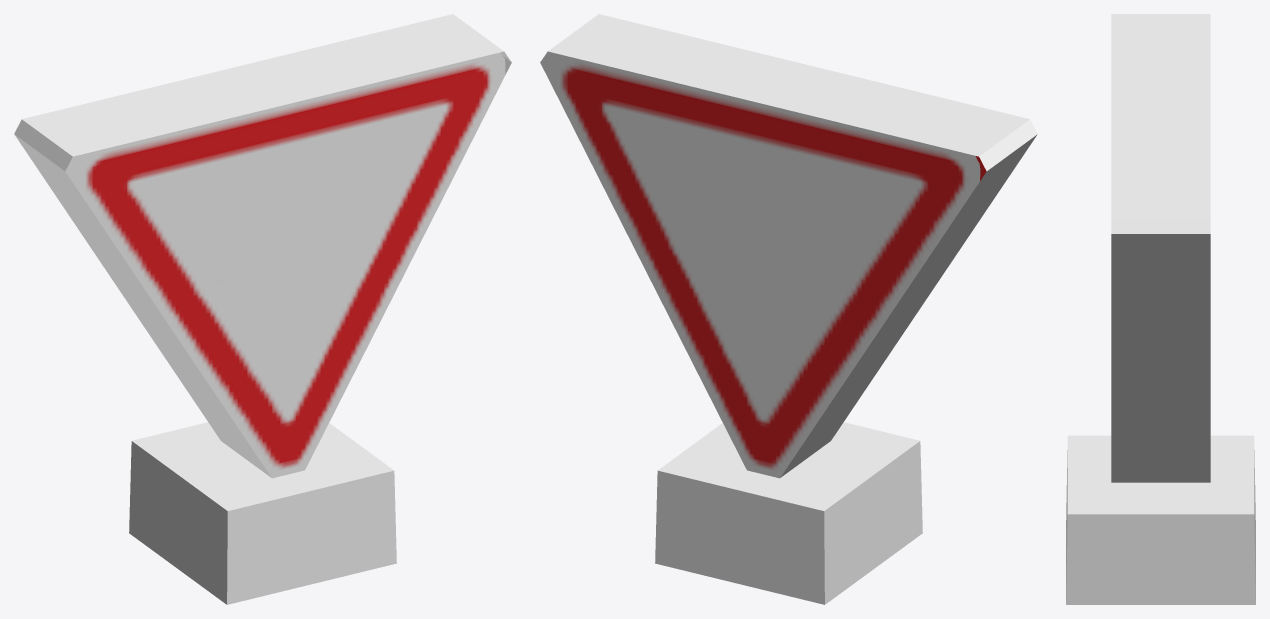
Rendered from Part_Sign_Secondary_road.FBX.
3 renders of one model, left to right at view 1: azimuth 30°, elevation 25°; view 2: azimuth 150°, elevation 25°; view 3: azimuth 270°, elevation 25°, orthographic. The views are drawn at different scales.
Visible parts, largest first — view 1: Part_Sign_Secondary_road; view 2: Part_Sign_Secondary_road; view 3: Part_Sign_Secondary_road.
Part boxes in pixels (x1,y1,x2,y2): Part_Sign_Secondary_road: (14,14,511,604); Part_Sign_Secondary_road: (540,14,1037,604); Part_Sign_Secondary_road: (1066,14,1255,604).
Bounding box in the file's own units: 252 × 250 × 95.71.
